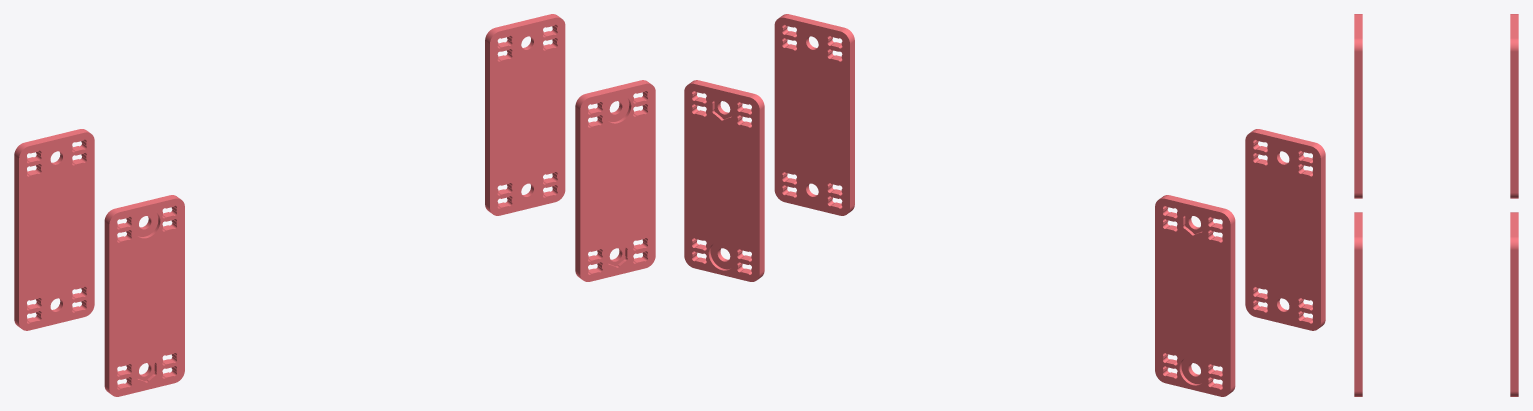
Rendered from BATTERY MODULE V2__SPINE ASM__SPINE SIDE SIMPLE.glb.
The picture shows the model from 3 angles, left to right: view 1: azimuth 30°, elevation 25°; view 2: azimuth 150°, elevation 25°; view 3: azimuth 270°, elevation 25°; orthographic projection. The views are drawn at different scales.
Visible parts, largest first — view 1: SPINE SIDE SIMPLE 2, SPINE SIDE SIMPLE 3, SPINE SIDE SIMPLE 1, SPINE SIDE SIMPLE 4; view 2: SPINE SIDE SIMPLE 1, SPINE SIDE SIMPLE 4, SPINE SIDE SIMPLE 2, SPINE SIDE SIMPLE 3; view 3: SPINE SIDE SIMPLE 1, SPINE SIDE SIMPLE 2, SPINE SIDE SIMPLE 3, SPINE SIDE SIMPLE 4.
Boxes of the visible parts, x1,y1,x2,y2 form: SPINE SIDE SIMPLE 2: (485, 14, 565, 215); SPINE SIDE SIMPLE 3: (104, 195, 184, 396); SPINE SIDE SIMPLE 1: (575, 80, 655, 281); SPINE SIDE SIMPLE 4: (14, 129, 94, 330); SPINE SIDE SIMPLE 1: (774, 14, 854, 215); SPINE SIDE SIMPLE 4: (1155, 195, 1235, 396); SPINE SIDE SIMPLE 2: (684, 80, 764, 281); SPINE SIDE SIMPLE 3: (1245, 129, 1325, 330); SPINE SIDE SIMPLE 1: (1354, 212, 1362, 396); SPINE SIDE SIMPLE 2: (1510, 212, 1518, 396); SPINE SIDE SIMPLE 3: (1354, 14, 1362, 198); SPINE SIDE SIMPLE 4: (1510, 14, 1518, 198).
Size of the model in its own units: 0.4134 by 0.1333 by 0.1247.
